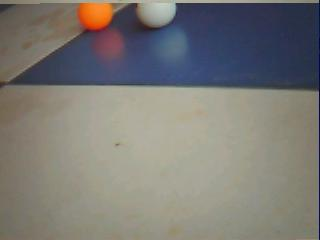oball: (78, 3, 113, 30)
